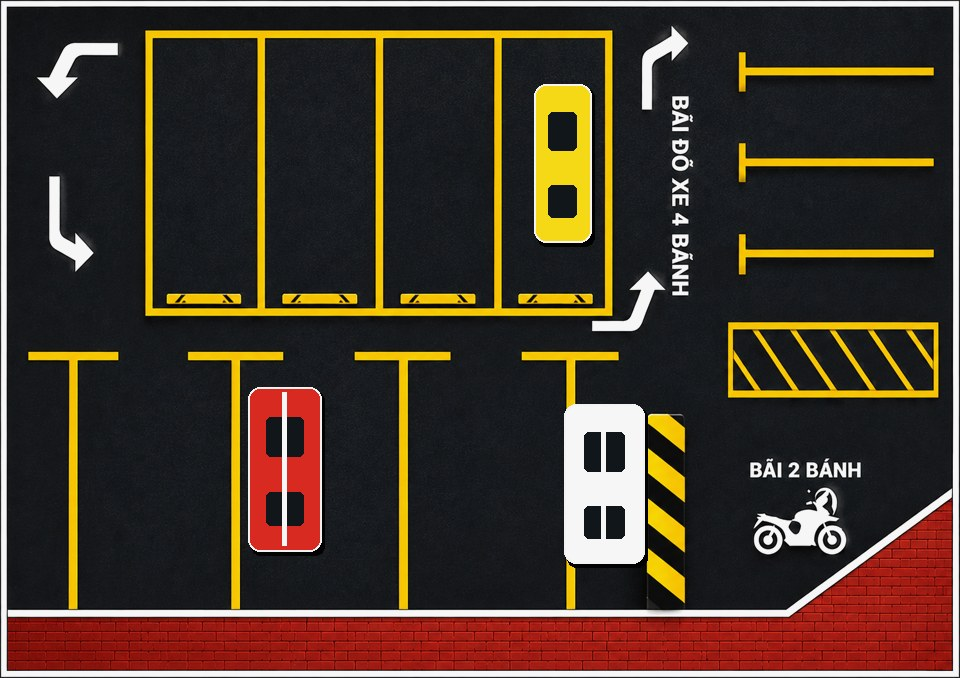empty: (35, 351, 199, 598), (360, 351, 518, 598), (148, 35, 267, 309), (267, 35, 386, 309), (386, 35, 505, 309)
occupied: (201, 351, 357, 598), (524, 351, 672, 598), (505, 35, 624, 309)
